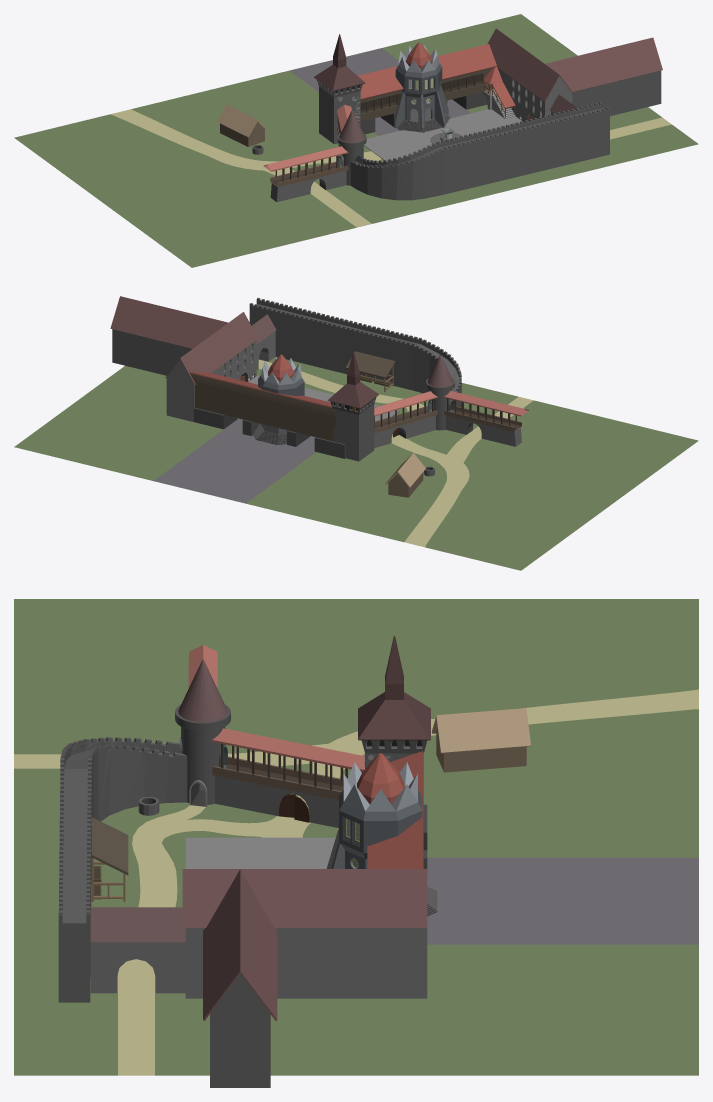
Rendered from SM_CastleYard.fbx.
3 renders of one model, top to bottom at view 1: azimuth 30°, elevation 25°; view 2: azimuth 150°, elevation 25°; view 3: azimuth 270°, elevation 25°, orthographic. The views are drawn at different scales.
Visible parts, largest first — view 1: Plane.005, Cube.014, Cube.012, Cube.001, Cube.009, Circle.002, Cube.042, Cube.010, Cube.020, Cube.021, Cube.017, Circle.004 (+1 smaller); view 2: Plane.005, Cube.014, Cube.012, Cube.001, Cube.010, Cube.009, Cube.042, Cube.020, Circle.002, Cube.007, Circle.004, Cube.021 (+6 smaller); view 3: Plane.005, Cube.010, Cube.014, Cube.012, Cube.042, Circle.002, Cube.007, Cube.021, Cube.009, Circle.004, Cube.005, Cube.001 (+2 smaller).
Part boxes in pixels (x1,y1,x2,y2): Plane.005: (14, 14, 698, 267); Cube.014: (350, 102, 609, 200); Cube.012: (545, 37, 662, 116); Cube.001: (358, 44, 496, 121); Cube.009: (314, 34, 365, 144); Circle.002: (395, 42, 442, 122); Cube.042: (487, 28, 574, 101); Cube.010: (497, 67, 576, 122); Cube.020: (263, 146, 348, 187); Cube.021: (217, 104, 267, 146); Cube.017: (270, 171, 346, 201); Circle.004: (337, 110, 366, 185); Plane.005: (14, 356, 698, 570); Cube.014: (249, 298, 461, 407); Cube.012: (110, 296, 227, 375); Cube.001: (189, 372, 335, 441); Cube.010: (166, 314, 276, 421); Cube.009: (327, 351, 378, 461); Cube.042: (165, 312, 258, 384); Cube.020: (444, 391, 528, 431); Circle.002: (258, 354, 304, 434); Cube.007: (374, 391, 437, 433); Circle.004: (426, 354, 454, 430); Cube.021: (385, 453, 425, 497); Plane.005: (14, 599, 698, 1075); Cube.010: (90, 907, 427, 998); Cube.014: (58, 737, 187, 1002); Cube.012: (203, 869, 277, 1087); Cube.042: (182, 869, 427, 927); Circle.002: (339, 753, 422, 868); Cube.007: (212, 728, 364, 799); Cube.021: (431, 708, 530, 772); Cube.009: (358, 635, 430, 768); Circle.004: (175, 659, 230, 806); Cube.005: (215, 775, 338, 827); Cube.001: (367, 751, 423, 868).
Size of the model in its own units: 138 by 26.73 by 81.72.
